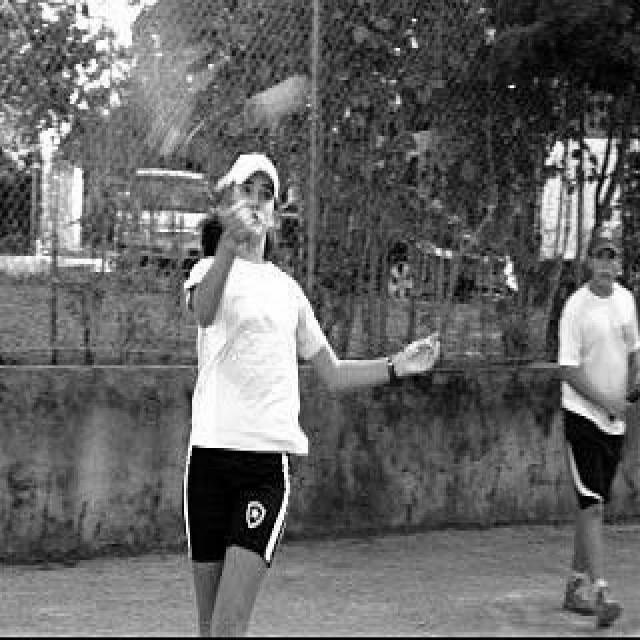vehicle: (274, 171, 520, 301), (126, 168, 212, 248)
